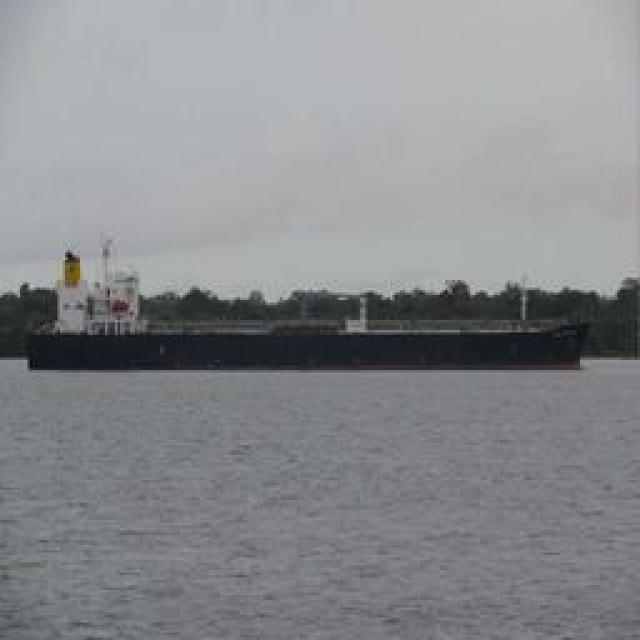CIV_Ship: (31, 305, 589, 375)
